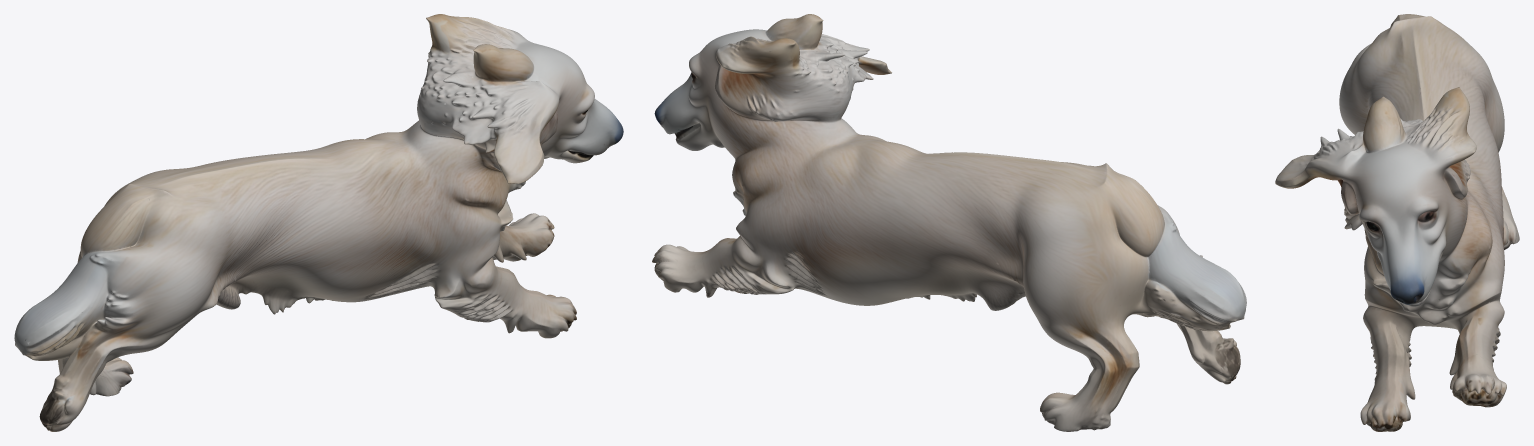
Rendered from soy.glb.
3 views of the same model, side by side, from view 1: azimuth 30°, elevation 25°; view 2: azimuth 150°, elevation 25°; view 3: azimuth 270°, elevation 25° (orthographic). The views are drawn at different scales.
Parts seen in each view (by area): view 1: texture_pbr_v128; view 2: texture_pbr_v128; view 3: texture_pbr_v128.
Boxes of the visible parts, x1,y1,x2,y2 form: texture_pbr_v128: (14,14,623,431); texture_pbr_v128: (652,14,1246,431); texture_pbr_v128: (1275,14,1519,431).
Size of the model in its own units: 1.17 by 0.5711 by 0.4182.
Materials: 1 (1 with a texture image).
